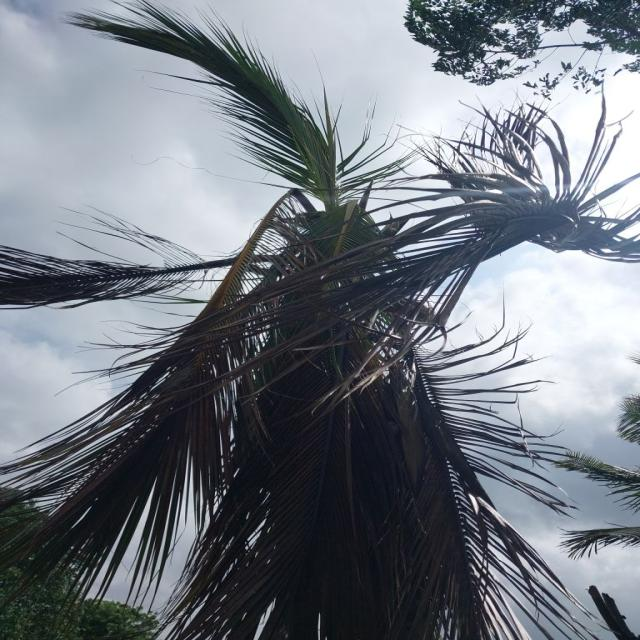bud root dropping: (3, 2, 638, 640)
